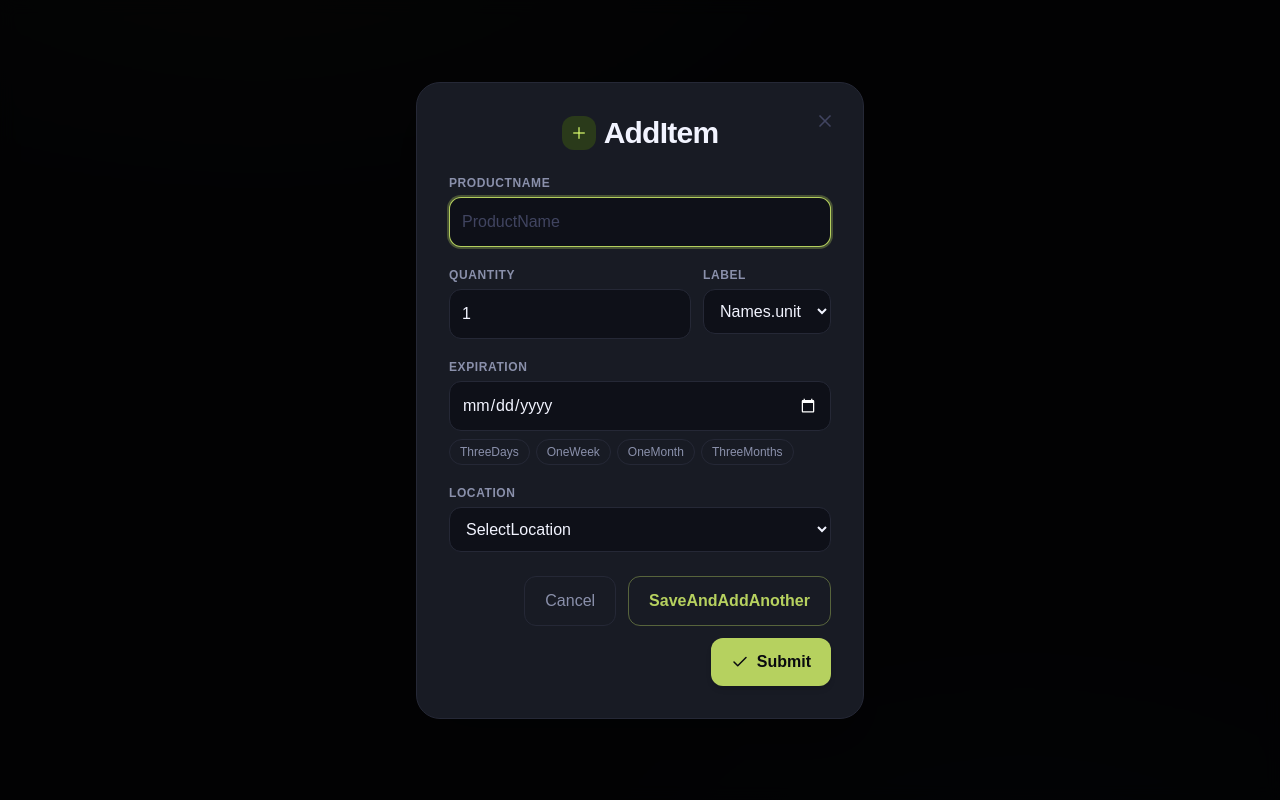
Test: items counted in units need a whole quantity
This screenshot has width=1280, height=800.
Type "Manzana" into the field with placeholder "ProductName" at (640, 222), box 449,196 -> 831,246
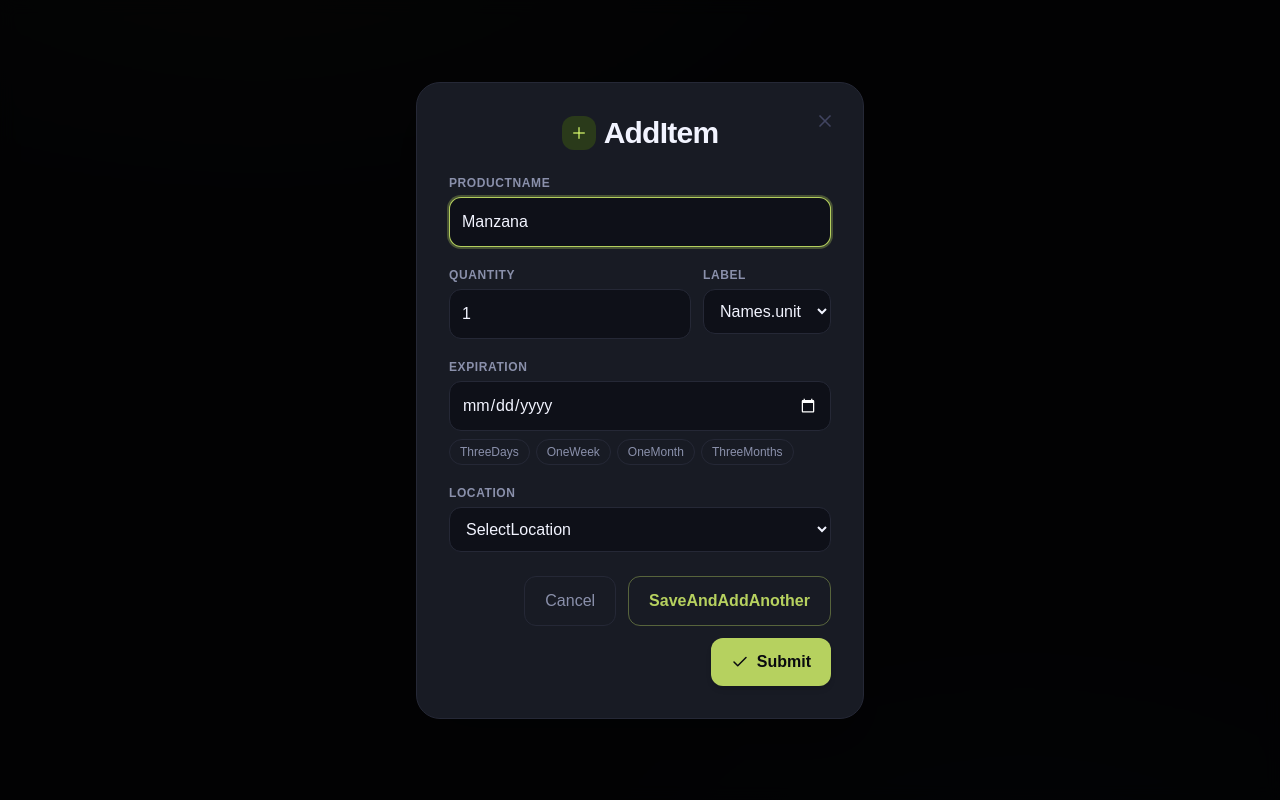
Click the button "OneWeek" at (573, 452), box 536,438 -> 611,464
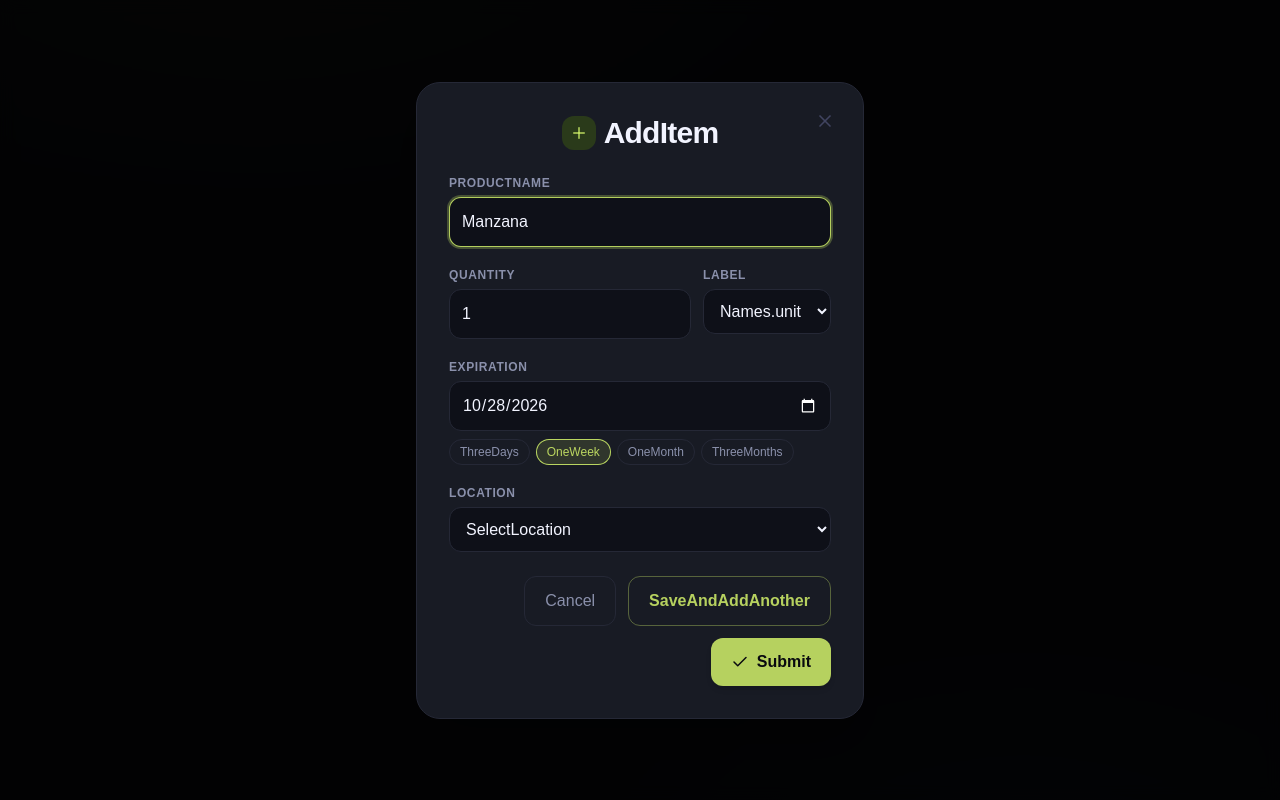
Select "Heladera" in the dropdown labelled "Location" at (640, 529), box 449,506 -> 831,552
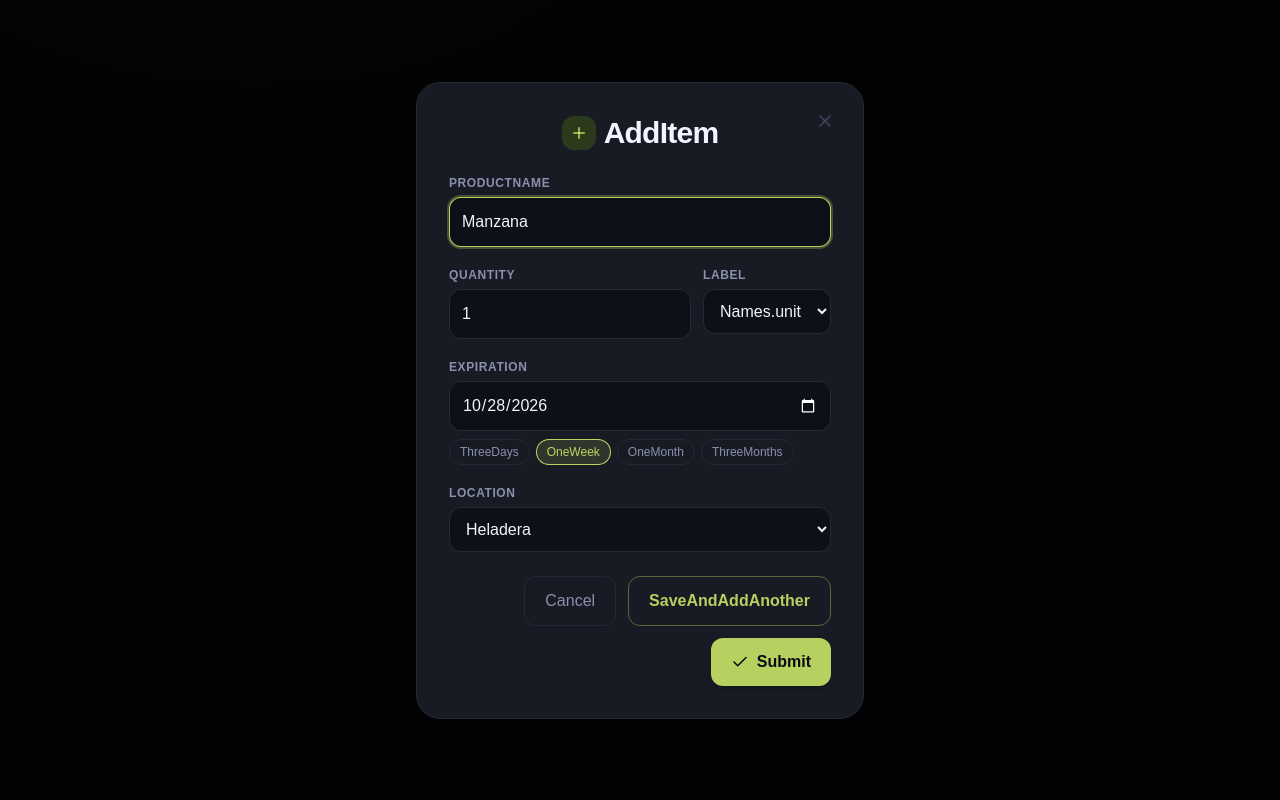
Type "1,5" into the field labelled "Quantity" at (570, 314), box 449,288 -> 691,338
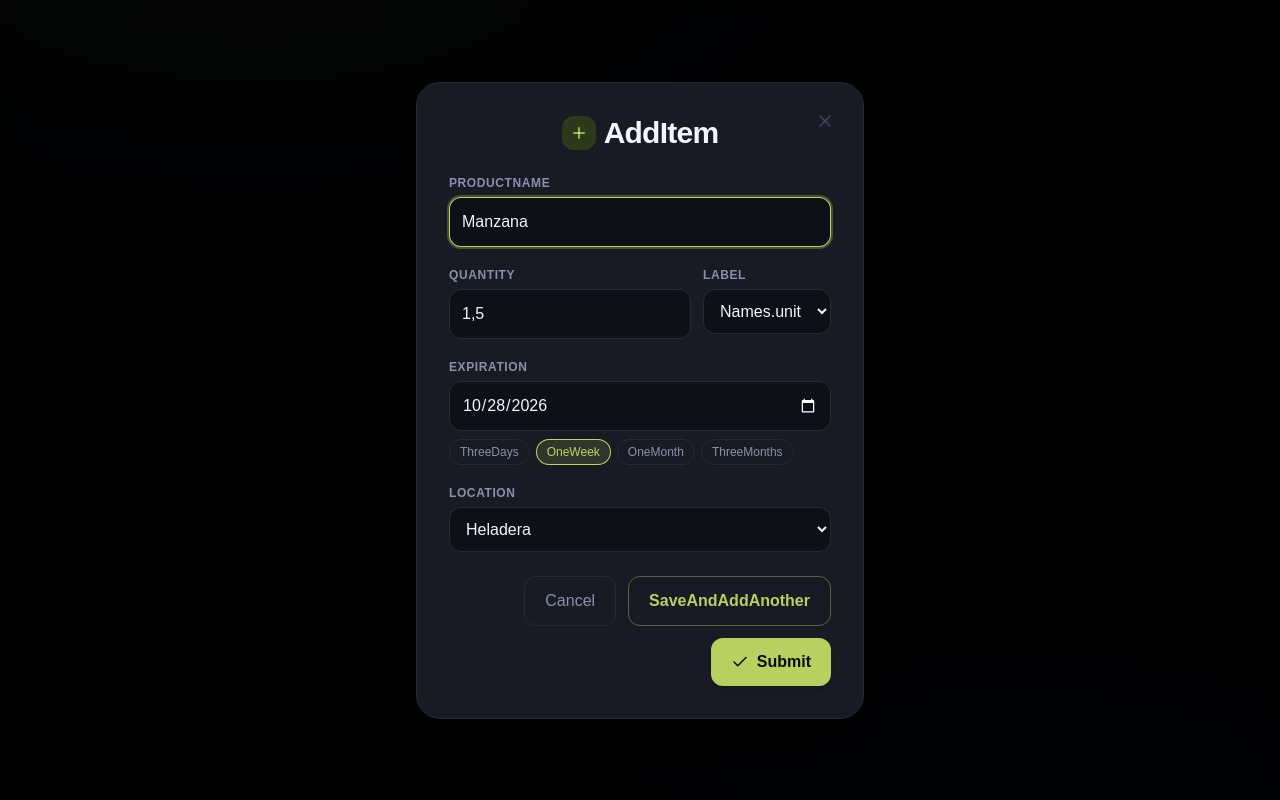
Click the button "Submit" at (771, 662), box 711,638 -> 831,686
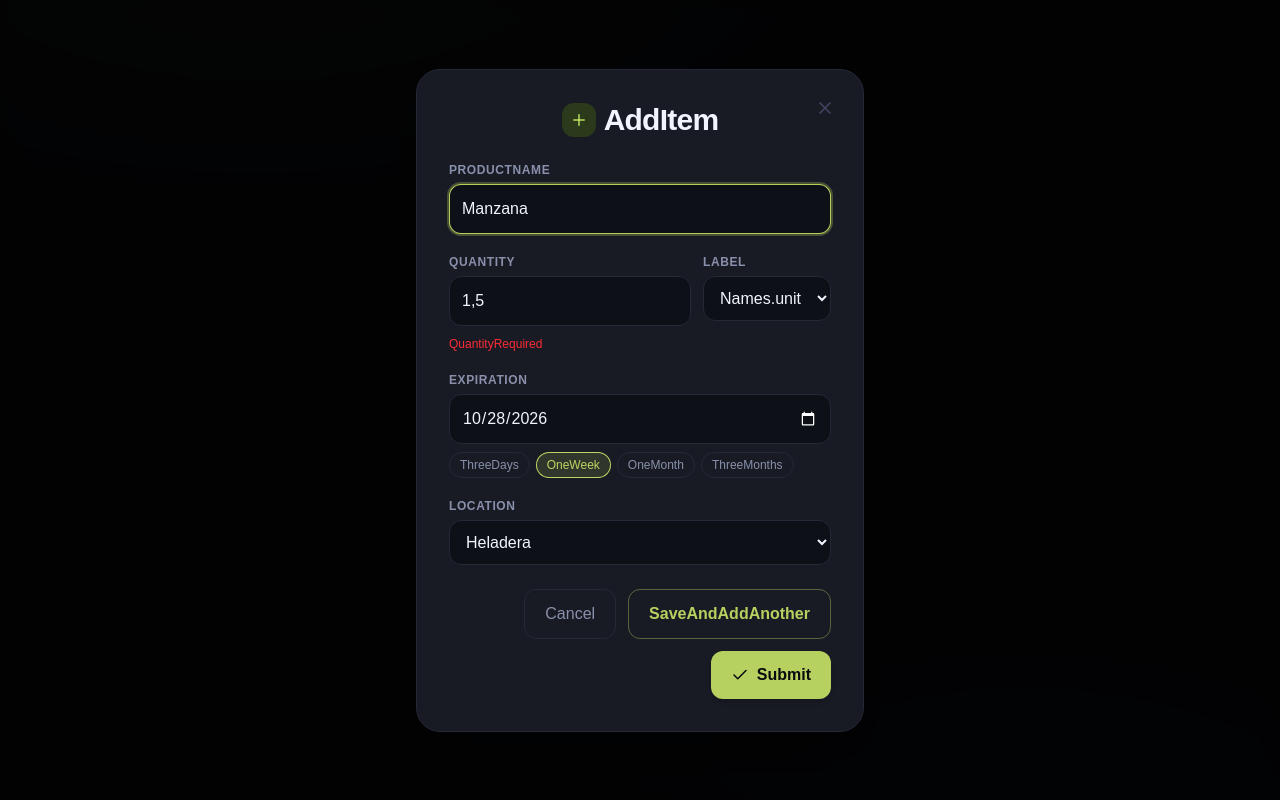
expect the text "QuantityRequired" is shown: met, box 449,336 -> 542,350
